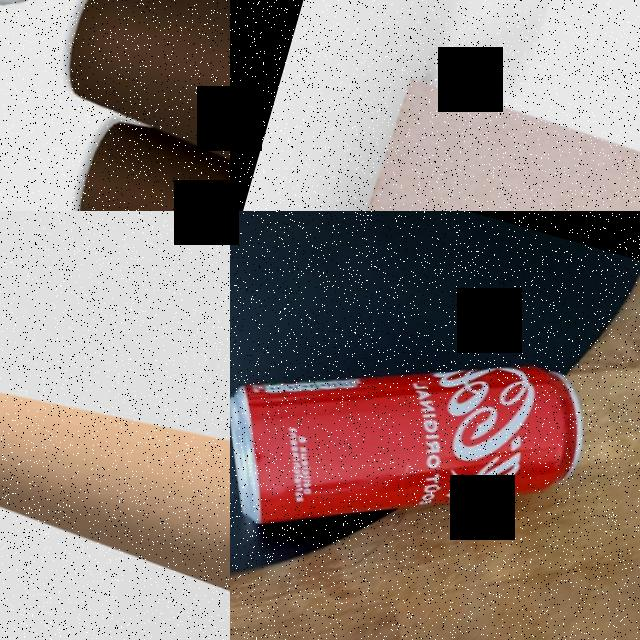can: (230, 281, 600, 608)
cup: (0, 351, 230, 627), (42, 0, 230, 210), (53, 89, 230, 211)
